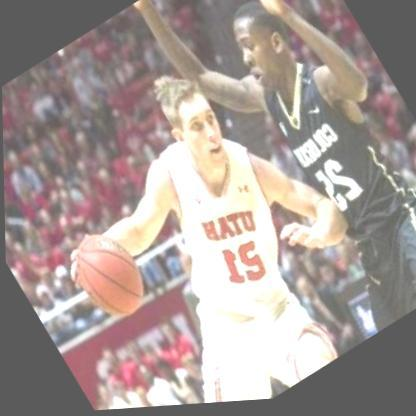basketball: (52, 212, 164, 338)
